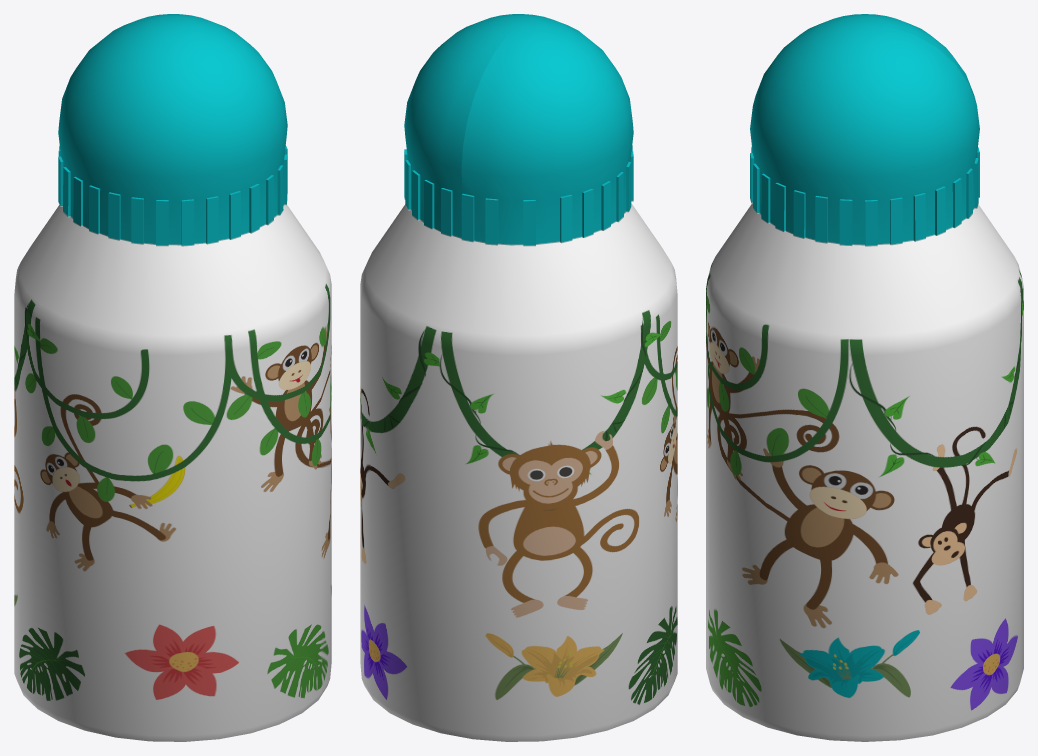
File: Water bottle.fbx
3 renders of one model, left to right at view 1: azimuth 30°, elevation 25°; view 2: azimuth 150°, elevation 25°; view 3: azimuth 270°, elevation 25°, orthographic.
Parts seen in each view (by area): view 1: water bottle; view 2: water bottle; view 3: water bottle.
Part boxes in pixels (left/top/right/bottom): water bottle: left=14, top=14, right=331, bottom=741; water bottle: left=360, top=14, right=677, bottom=741; water bottle: left=706, top=14, right=1023, bottom=741.
Bounding box in the file's own units: 6 × 13.61 × 6.
Materials: 1 (1 with a texture image).
